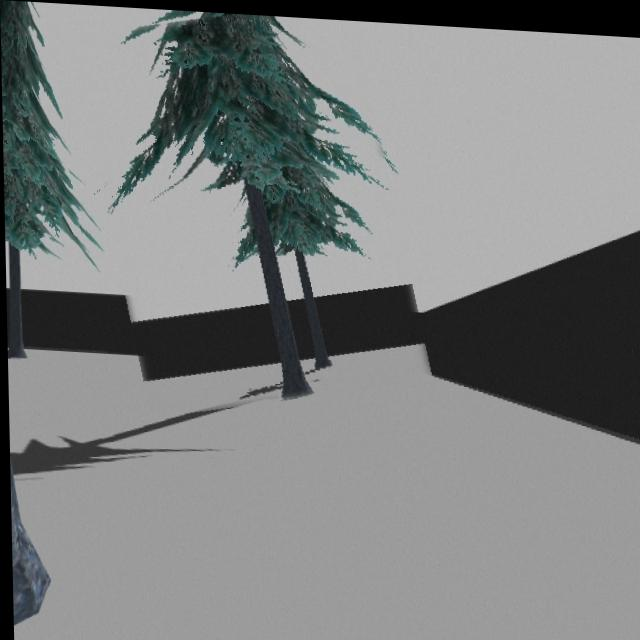tree: (106, 11, 382, 396)
